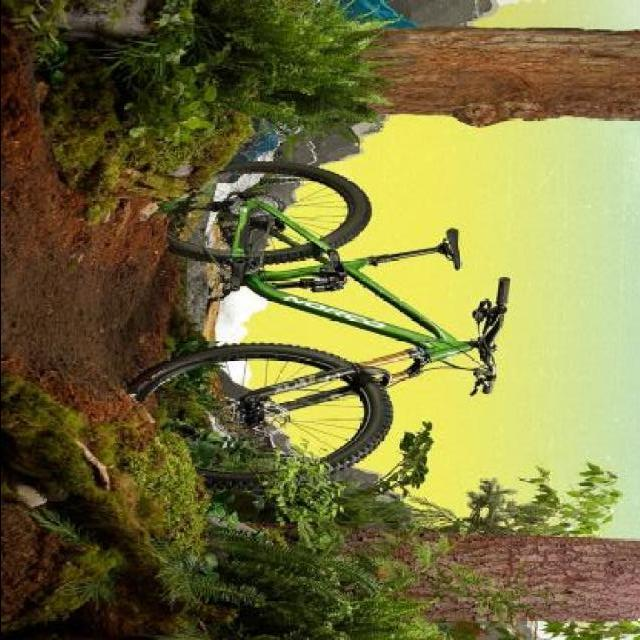bicycle: (127, 159, 519, 481)
